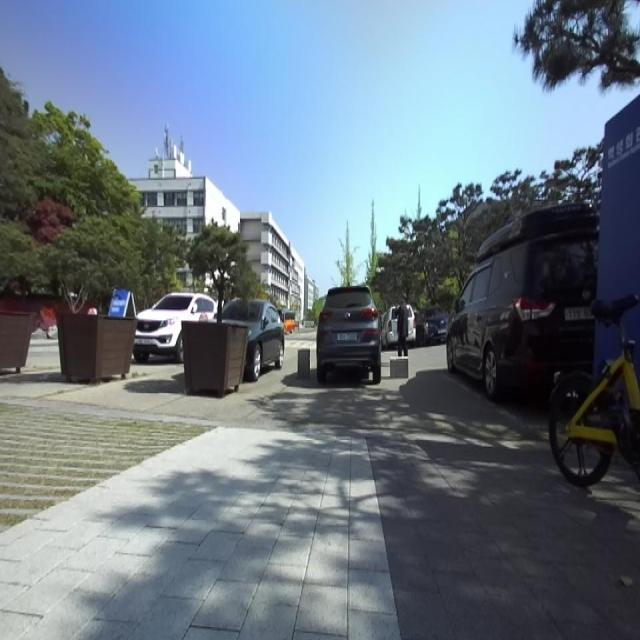sidewalk: (0, 426, 640, 639)
